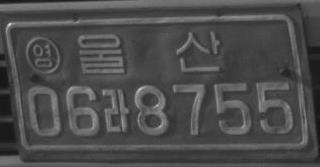0: (26, 84, 61, 137)
5: (213, 81, 253, 135), (255, 79, 294, 134)
6: (66, 84, 100, 137)
7: (171, 82, 207, 136)
8: (134, 84, 169, 137)
라: (101, 87, 129, 133)
영: (24, 35, 60, 75)
울산_D: (77, 30, 220, 77)
